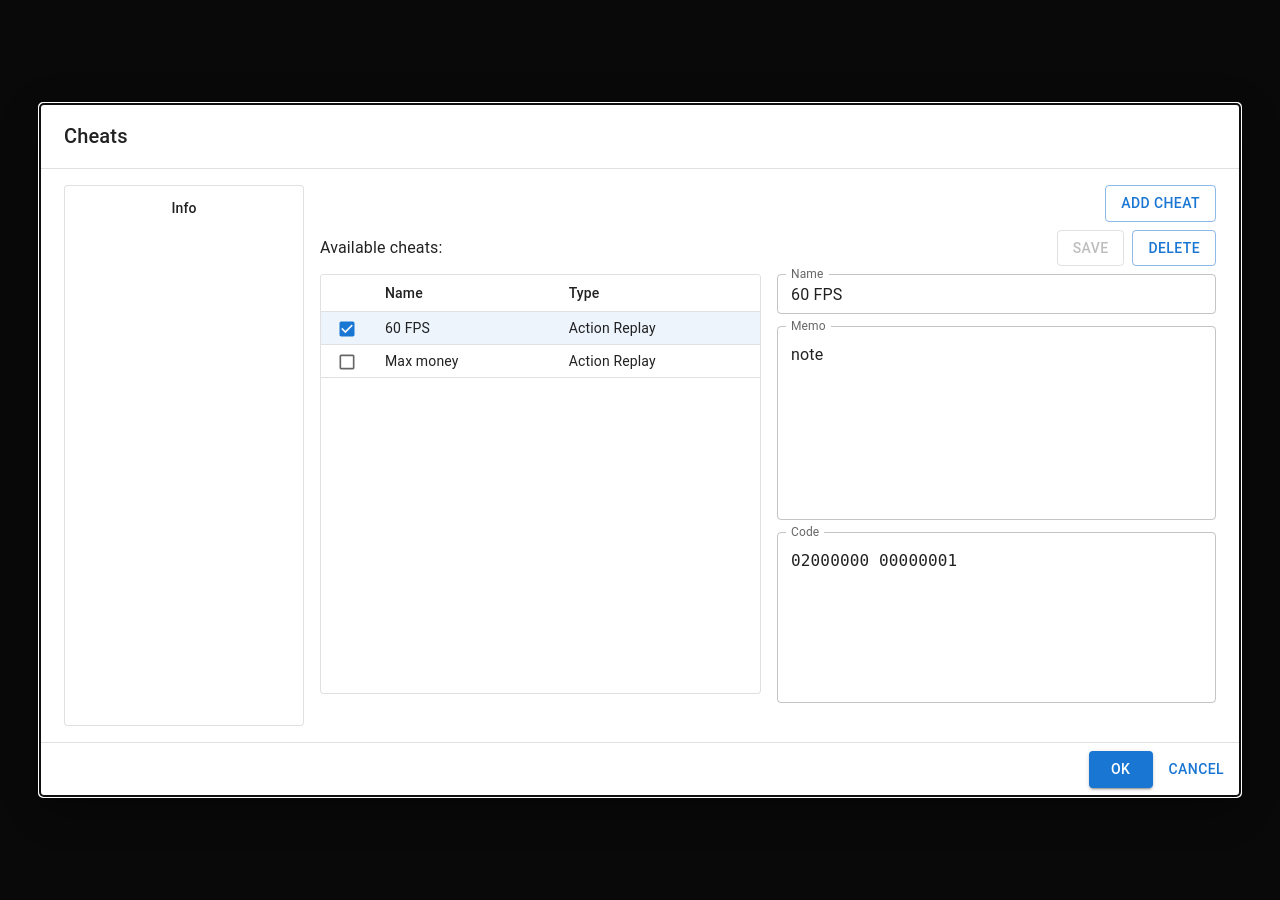
Test case: CheatDialog › blocks saving an invalid code
Replace the text in the text box labelled "Code" with "1234": x=996, y=618 [791, 549, 1202, 687]
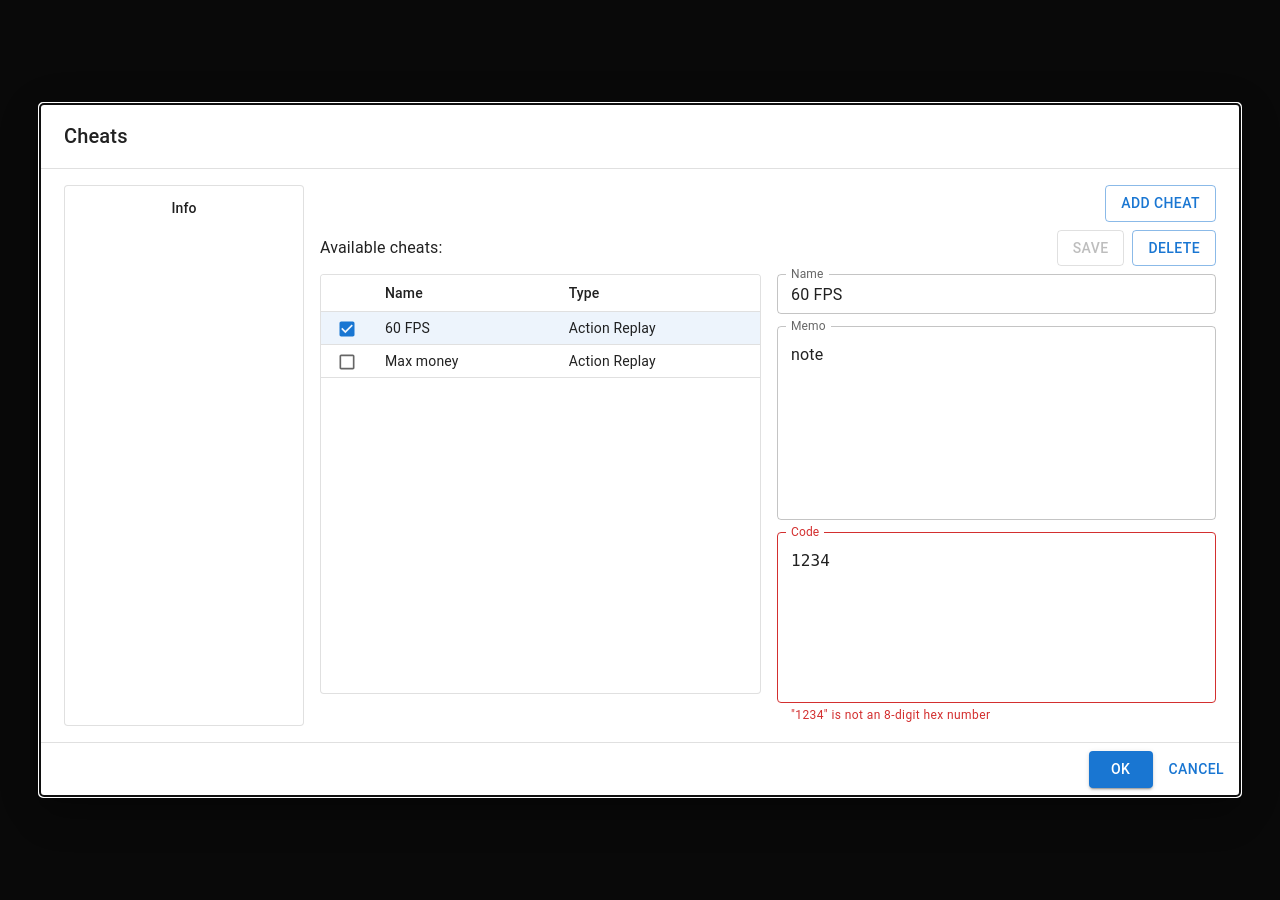
Check: the button "Save" is disabled, box [1057, 230, 1124, 266]
Check: the text "\"1234\" is not an 8-digit hex number" is shown, box [791, 708, 990, 722]
